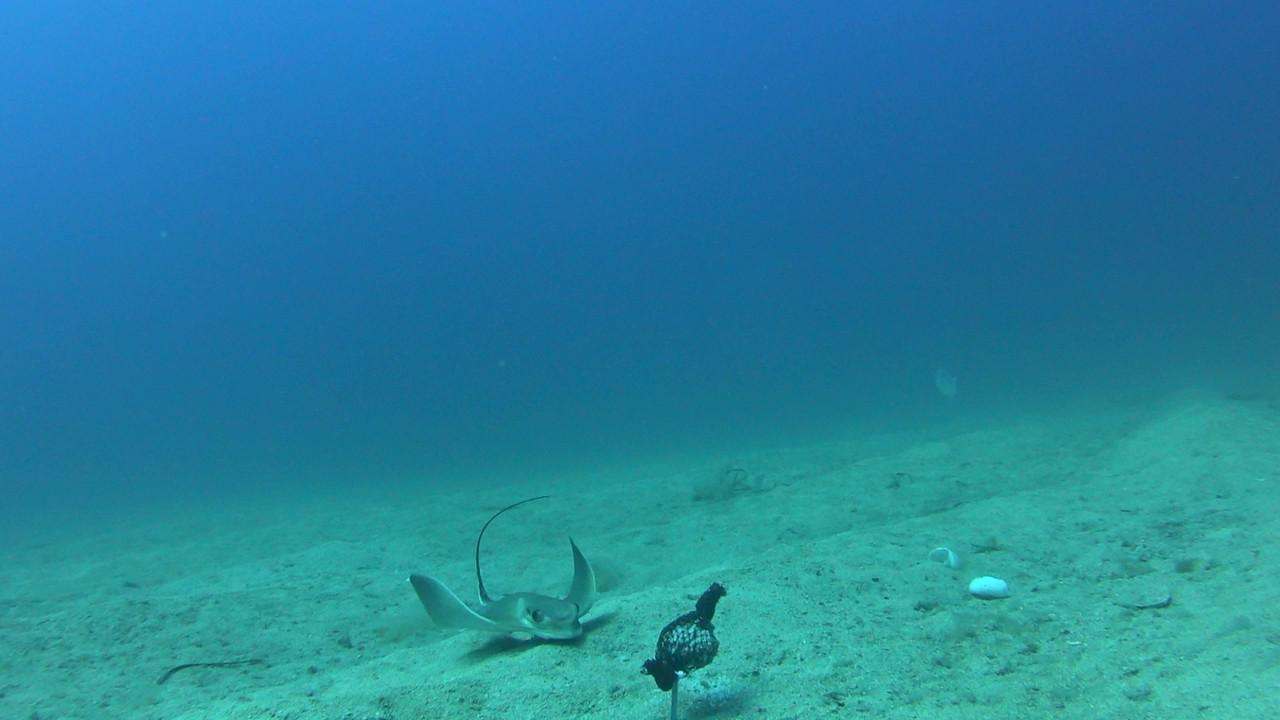myliobatis: (399, 472, 636, 656)
